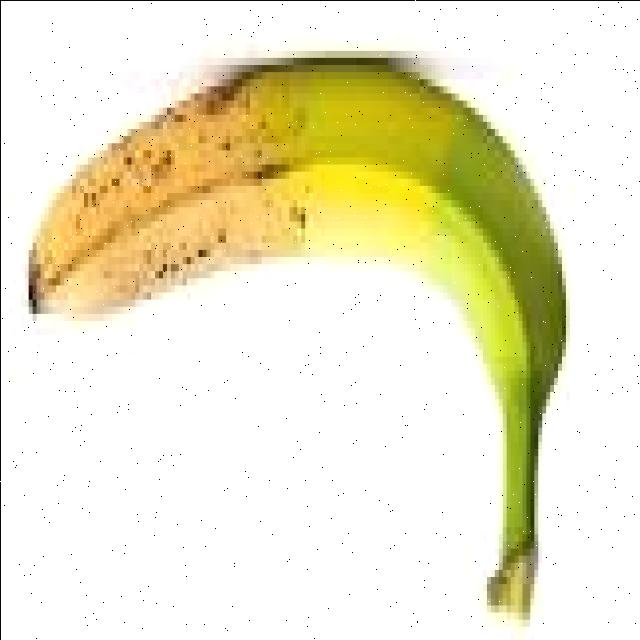Unripe: (24, 59, 566, 625)
